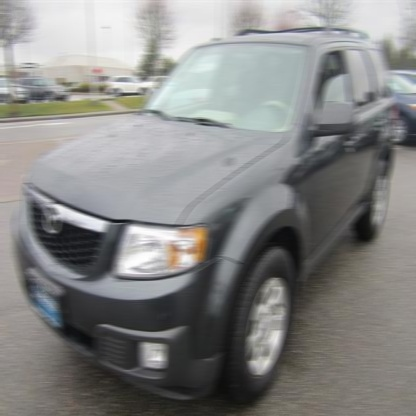Vehicle: (13, 24, 398, 409)
